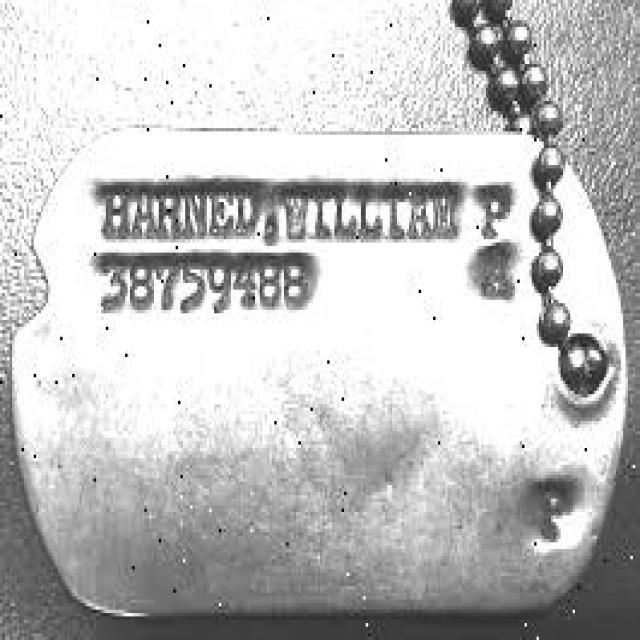ocr: (84, 172, 518, 331)
